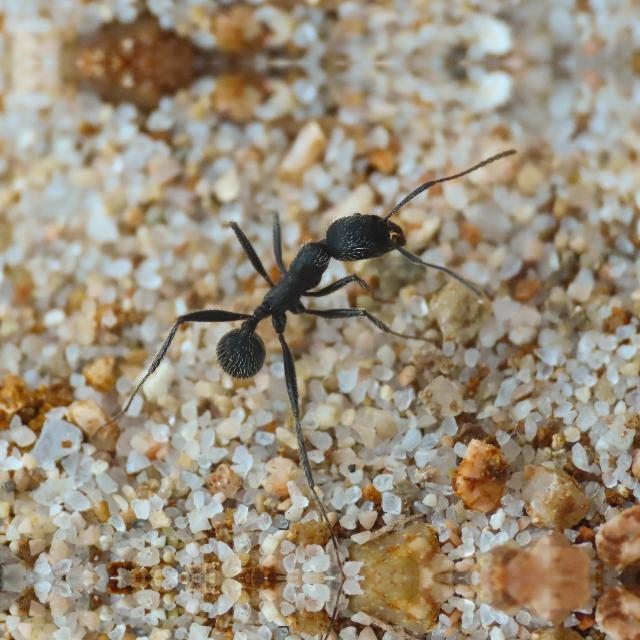Apheanogaster: (173, 170, 449, 398)
